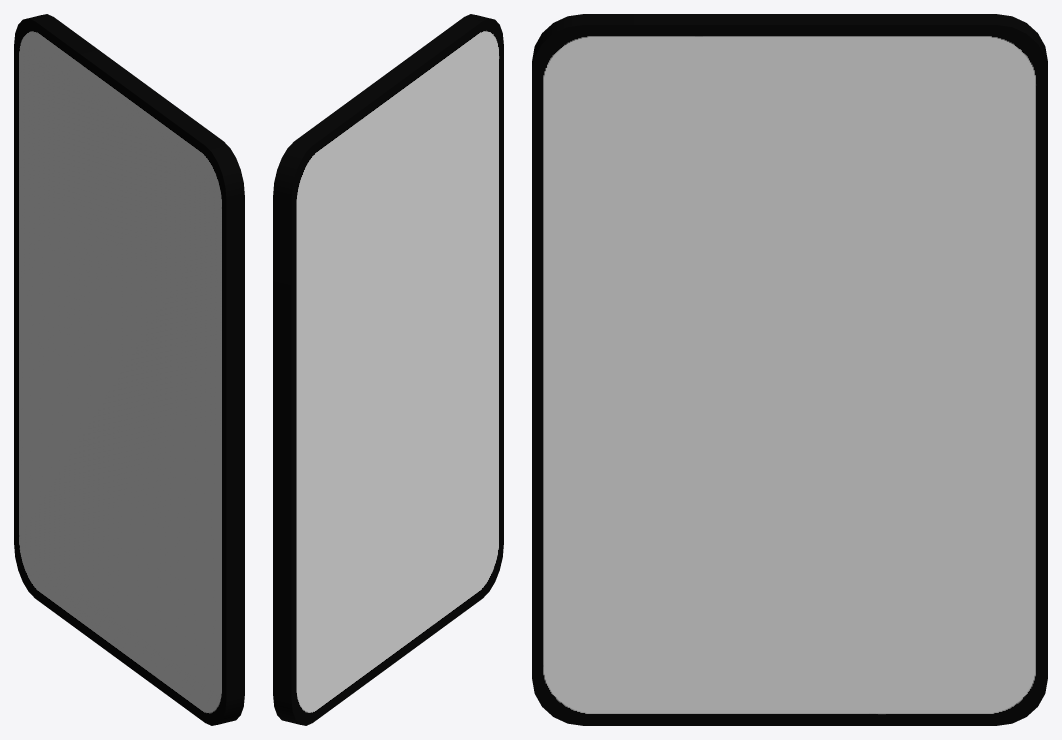
File: Card.fbx
The picture shows the model from 3 angles, left to right: view 1: azimuth 30°, elevation 25°; view 2: azimuth 150°, elevation 25°; view 3: azimuth 270°, elevation 25°; orthographic projection. The views are drawn at different scales.
Parts seen in each view (by area): view 1: pCube1; view 2: pCube1; view 3: pCube1.
Boxes of the visible parts, x1,y1,x2,y2 form: pCube1: (14,14,244,725); pCube1: (273,14,503,725); pCube1: (532,14,1047,725).
Bounding box in the file's own units: 0.1 × 3 × 2.
Materials: 1 (1 with a texture image).
